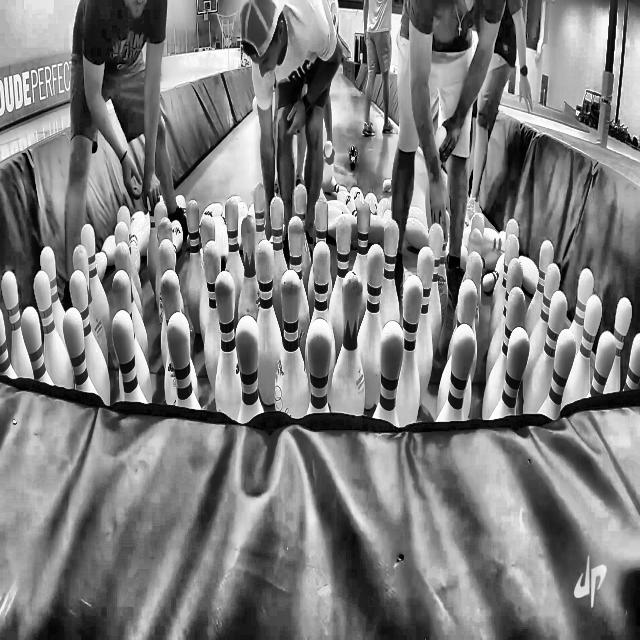bowling-pins: (68, 270, 110, 404), (274, 269, 310, 418), (331, 271, 365, 415), (33, 270, 73, 388), (256, 239, 282, 405), (359, 243, 385, 409), (396, 274, 424, 427), (215, 270, 241, 420), (438, 324, 475, 421), (492, 328, 530, 420), (111, 310, 146, 403), (329, 213, 352, 353), (167, 312, 200, 409), (80, 223, 109, 333), (1, 271, 31, 377), (374, 321, 404, 426), (288, 215, 310, 356), (539, 330, 573, 420), (62, 307, 97, 394), (416, 246, 435, 401), (236, 315, 263, 423), (575, 295, 603, 399), (305, 318, 335, 414), (526, 241, 555, 336), (203, 240, 221, 390), (606, 297, 633, 393), (20, 306, 51, 384), (186, 199, 204, 332), (237, 212, 259, 320), (270, 195, 288, 326), (225, 197, 244, 321), (381, 219, 400, 327), (571, 268, 595, 353), (429, 222, 444, 353), (309, 240, 331, 323), (40, 245, 61, 326), (155, 238, 176, 318), (353, 200, 371, 291), (594, 331, 617, 394), (134, 337, 151, 401), (72, 244, 88, 301), (111, 270, 132, 313), (165, 347, 177, 404), (253, 181, 266, 231), (629, 333, 640, 389), (175, 312, 189, 333), (189, 359, 196, 397), (118, 377, 123, 398)
